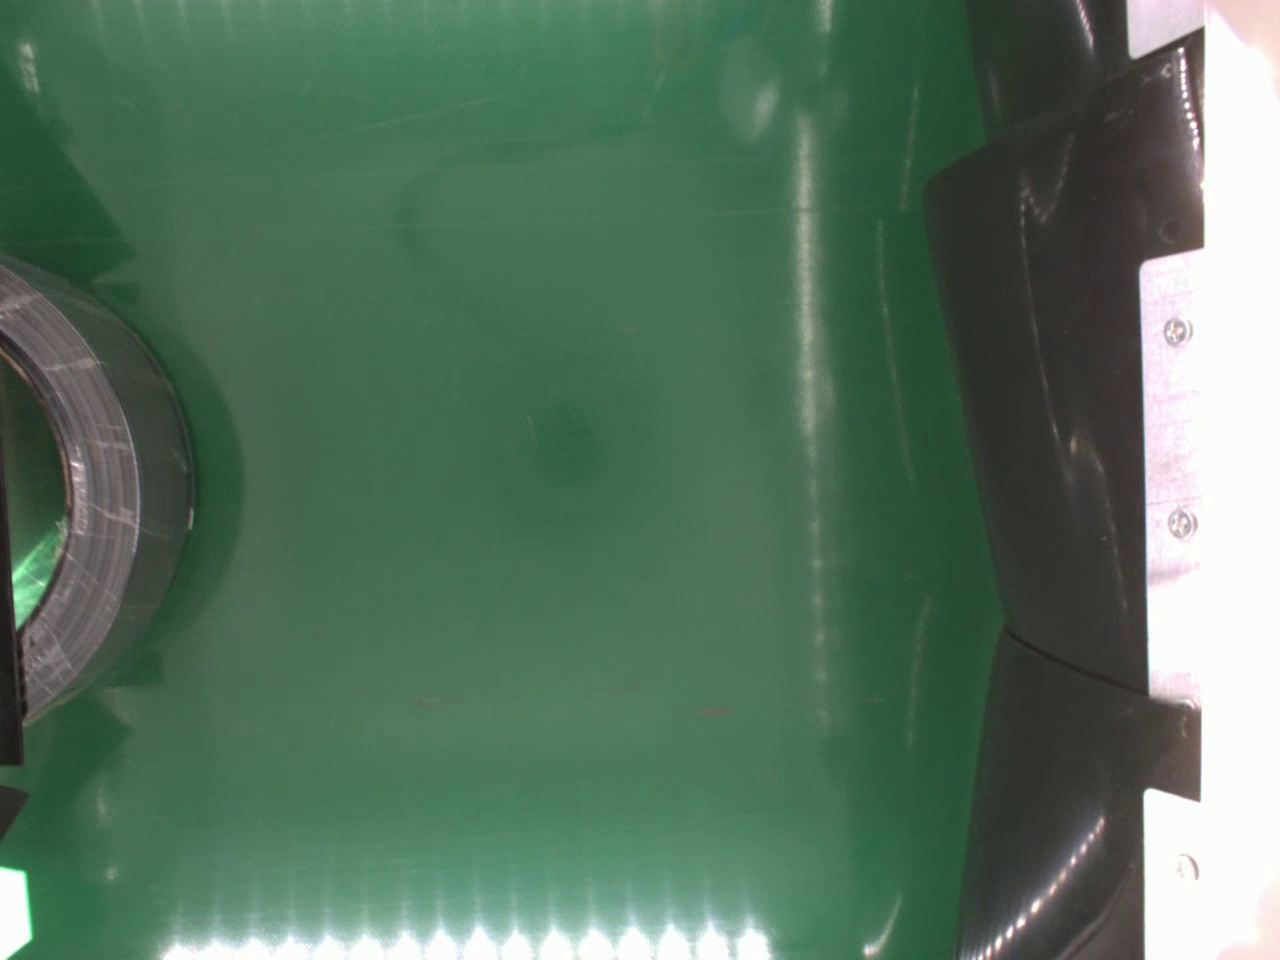black: (0, 249, 198, 720)
